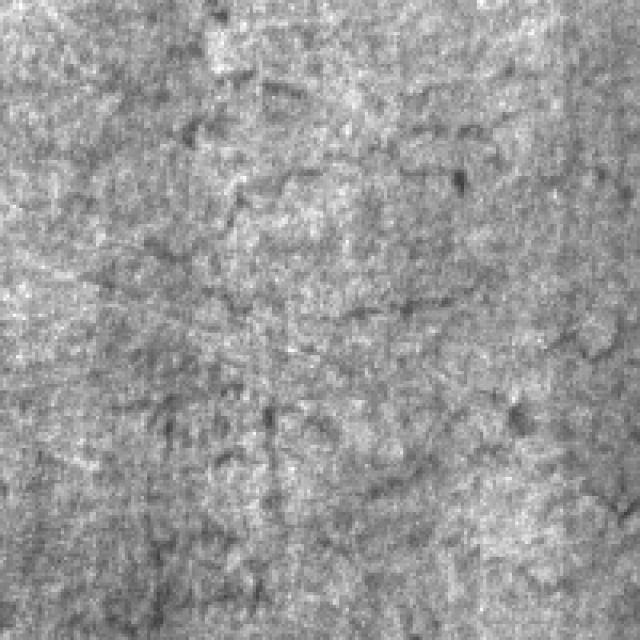crazing: (83, 48, 531, 205), (83, 144, 474, 320)
